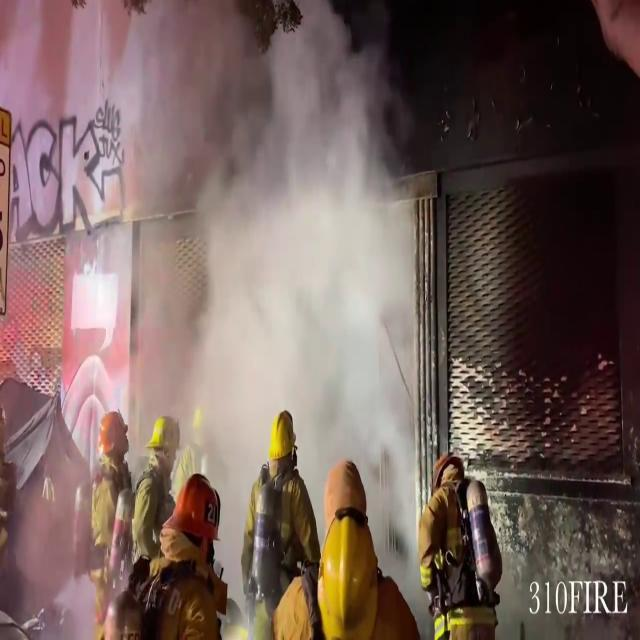Smoke: (116, 0, 422, 496)
